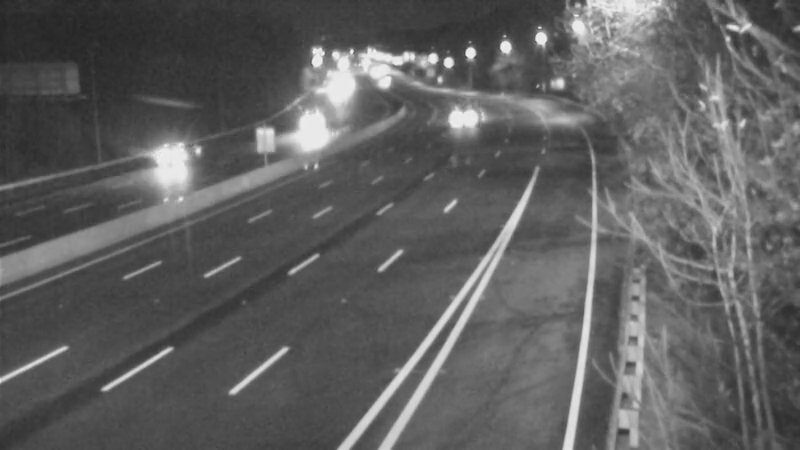vehicle: (120, 123, 200, 203), (429, 88, 479, 138), (296, 110, 346, 160)
